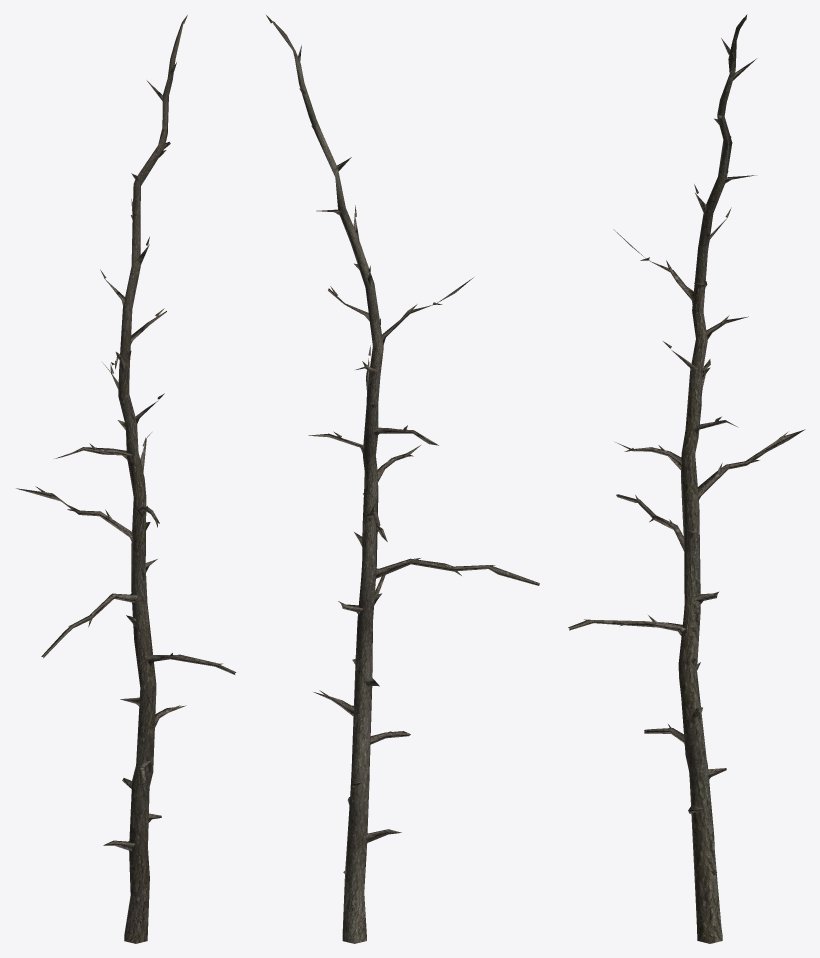
File: tundra-dead-pine-a-close.glb
3 renders of one model, left to right at view 1: azimuth 30°, elevation 25°; view 2: azimuth 150°, elevation 25°; view 3: azimuth 270°, elevation 25°, orthographic. The views are drawn at different scales.
Parts seen in each view (by area): view 1: pine_dead_a_LOD0; view 2: pine_dead_a_LOD0; view 3: pine_dead_a_LOD0.
Boxes of the visible parts, box(x1,y1,x2,y2) form: pine_dead_a_LOD0: box(16, 15, 236, 943); pine_dead_a_LOD0: box(266, 15, 539, 943); pine_dead_a_LOD0: box(568, 14, 805, 943).
Size of the model in its own units: 3.66 by 15.13 by 3.4.
1 material, 1 textured.
